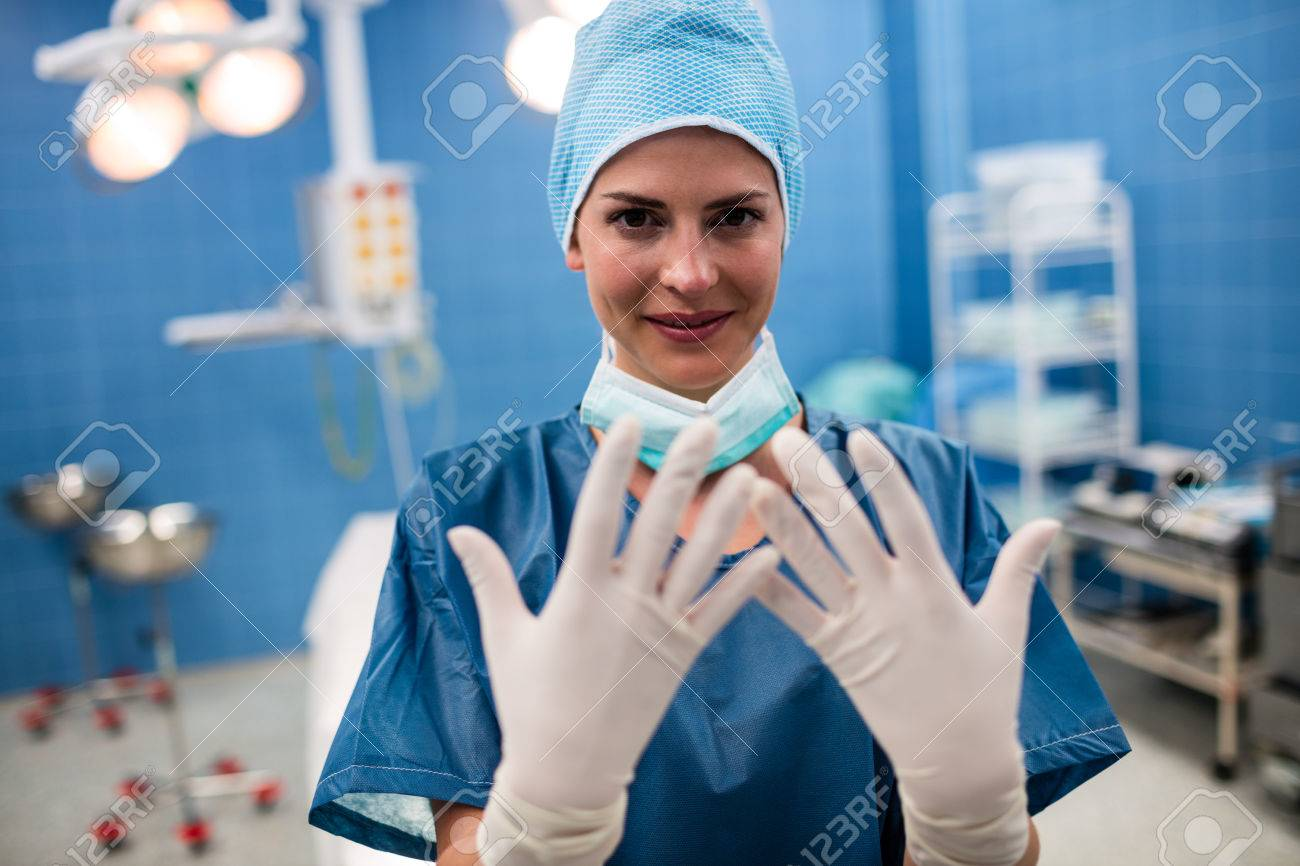Gloves: (441, 412, 760, 864), (750, 412, 1067, 862)
without_mask: (585, 177, 786, 438)
